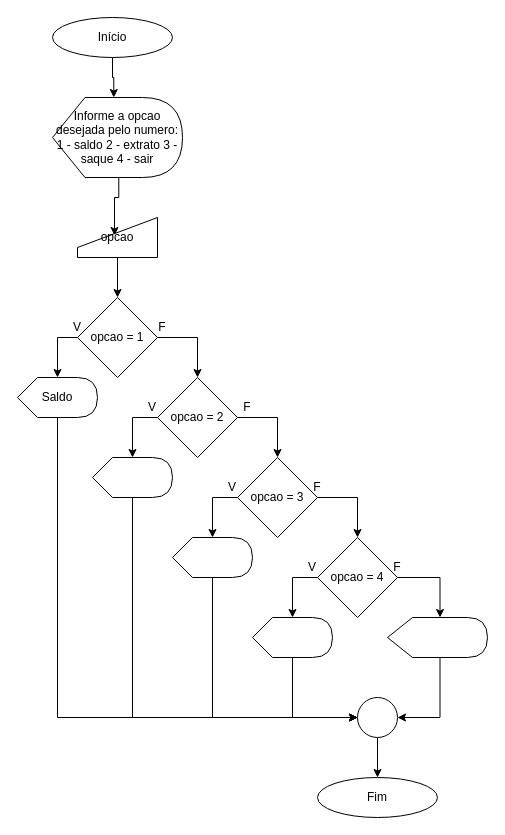
Some shapes in this 505 by 835 pixel diagram are drawn without their labels. Each missing label, with the centre of its shape:
"Extrato" goes at (132,477).
"Nenhuma das anteriores" goes at (437,637).
"Sair" goes at (292,637).
"Saque" goes at (212,557).
